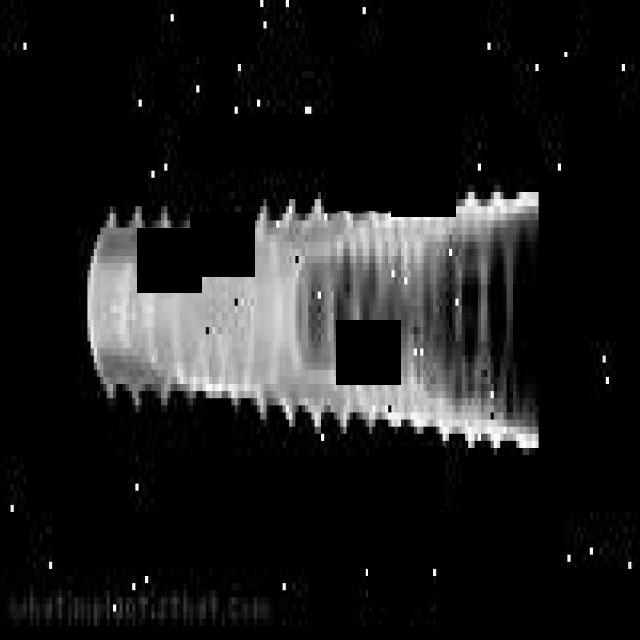Titan Implant Implant: (78, 192, 544, 471)
